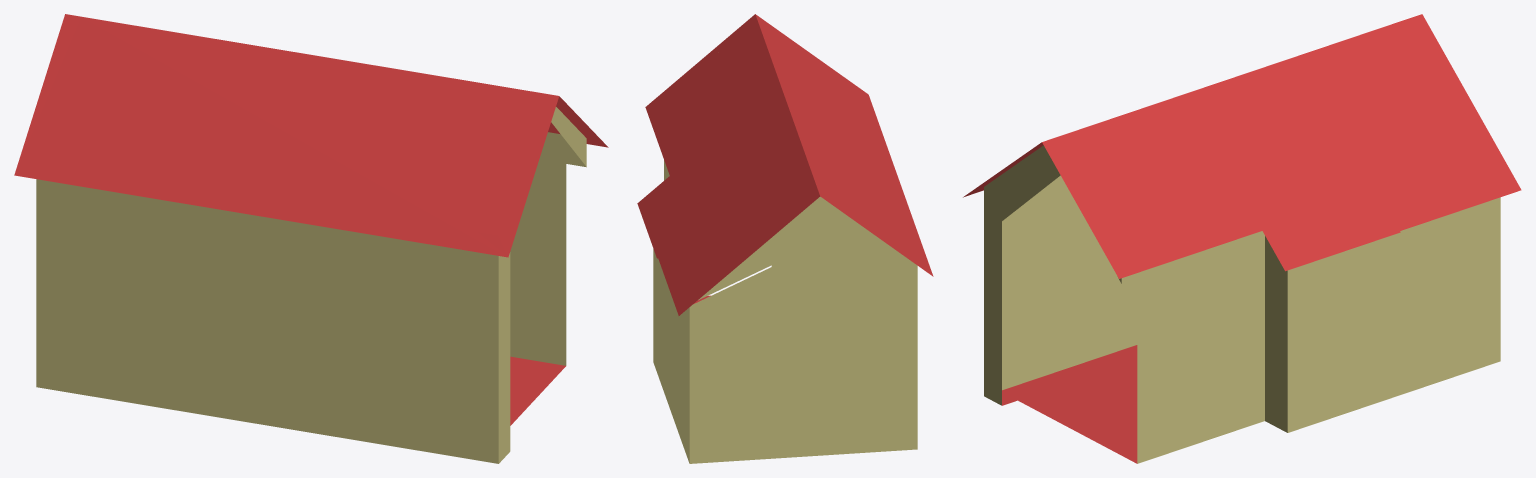
3 renders of one model, left to right at view 1: azimuth 30°, elevation 25°; view 2: azimuth 150°, elevation 25°; view 3: azimuth 270°, elevation 25°, orthographic. The views are drawn at different scales.
Size of the model in its own units: 24.17 by 27.04 by 15.76.
